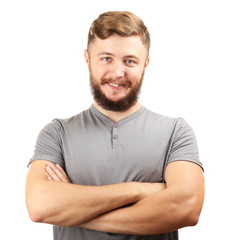young: (77, 6, 155, 110)
